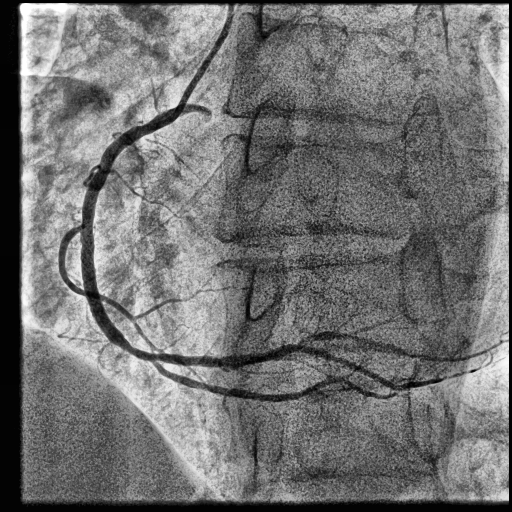pborca: (156, 344, 447, 390)
pda: (152, 362, 347, 403)
rca: (81, 108, 179, 363)
